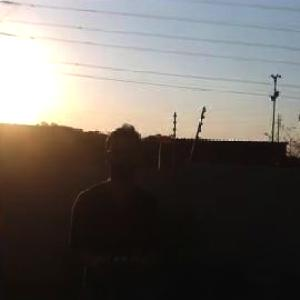follow: (59, 117, 168, 299)
